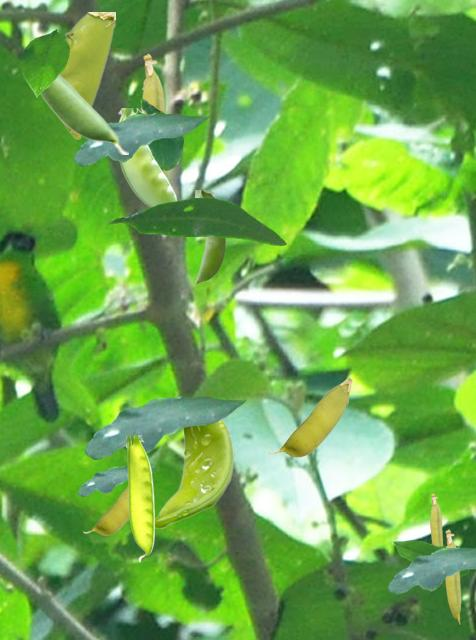pea: (154, 419, 232, 527), (40, 74, 127, 153), (61, 12, 114, 138), (268, 377, 351, 456), (118, 108, 177, 207), (126, 435, 153, 561), (141, 53, 167, 176), (195, 190, 224, 284), (83, 487, 128, 534), (445, 529, 460, 623), (430, 493, 442, 544)
